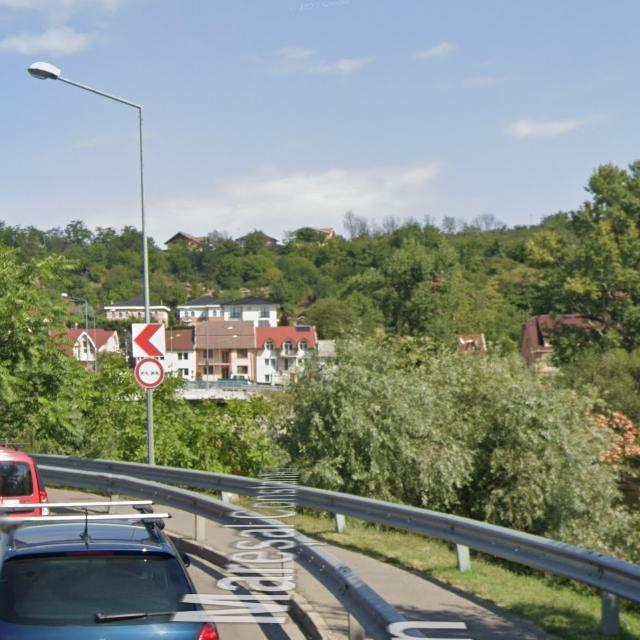forb_overtake: (134, 358, 164, 388)
